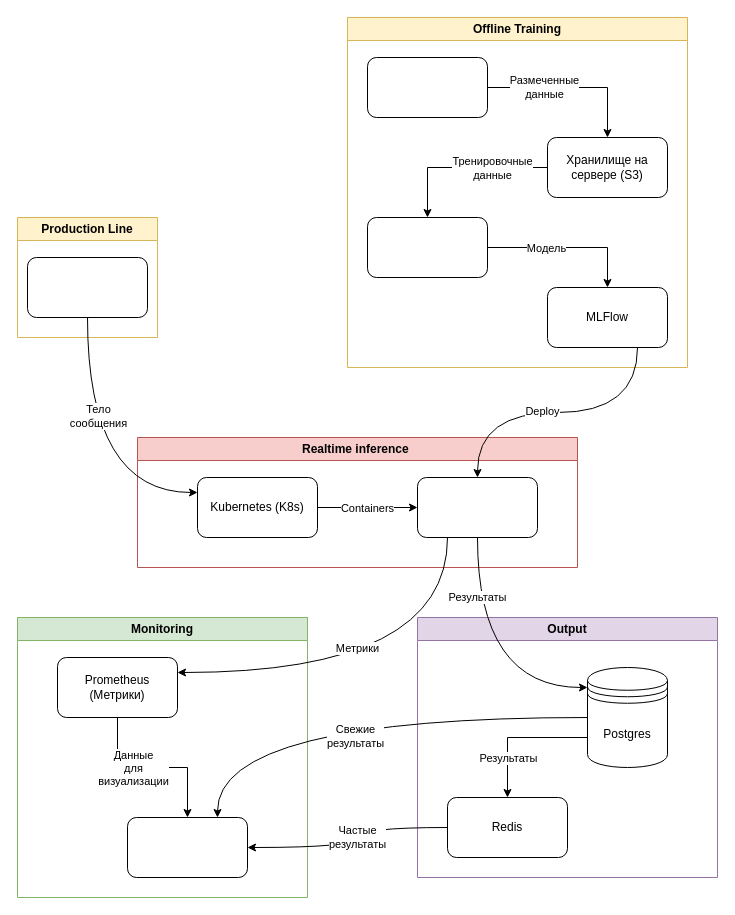
Image size: 735x915. Some labels were removed from this diagram. The shapes that lost their labels are listed below. From the top down, each one's centre as x and y in pixels, then its label:
the point at 427,87: Разметка данных экспертами (Human Labeling)
the point at 427,247: Тренировочный пайплайн
the point at 87,287: Чаты в мессенджерах
the point at 477,507: BERT
the point at 187,847: Grafana (Дашборды)
